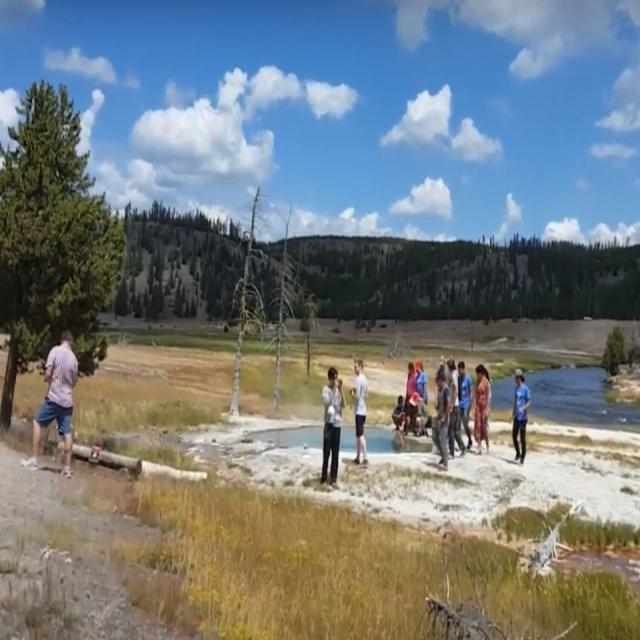body: (19, 327, 80, 481), (319, 365, 347, 491), (348, 357, 369, 466), (445, 357, 467, 460), (510, 366, 532, 466), (472, 362, 492, 457), (434, 368, 452, 472), (458, 361, 473, 450), (408, 390, 433, 438), (391, 394, 406, 432), (414, 360, 427, 399), (405, 362, 416, 400), (436, 355, 447, 381)
